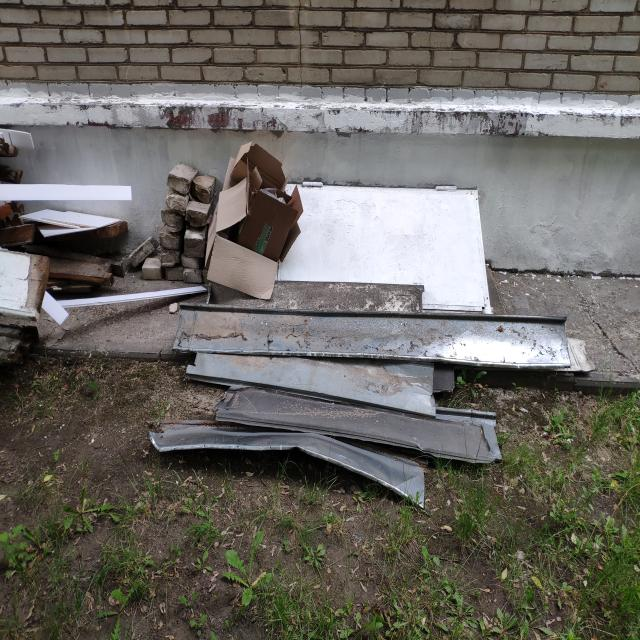entulho: (250, 180, 494, 317), (175, 300, 592, 379), (215, 372, 506, 467), (147, 423, 432, 509), (184, 345, 442, 418), (212, 141, 306, 263), (140, 164, 218, 284), (25, 212, 130, 291), (42, 286, 216, 311), (0, 244, 52, 324), (0, 183, 134, 201), (0, 129, 37, 156)
